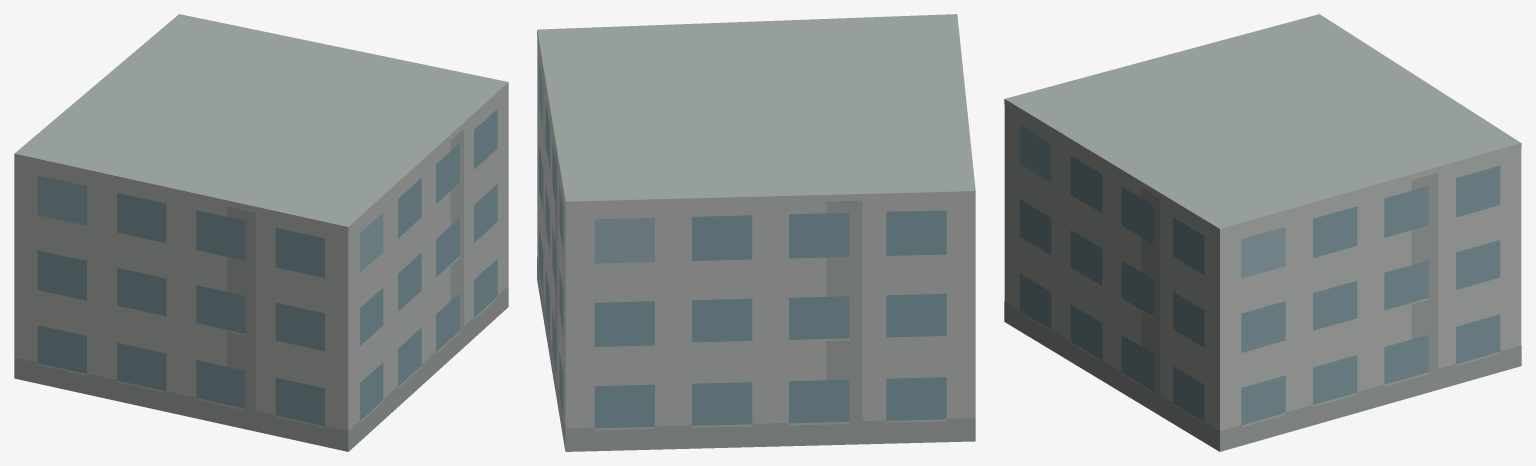
Rendered from survey-upis-32892058.glb.
The picture shows the model from 3 angles, left to right: view 1: azimuth 30°, elevation 25°; view 2: azimuth 150°, elevation 25°; view 3: azimuth 270°, elevation 25°; orthographic projection. The views are drawn at different scales.
Visible parts, largest first — view 1: survey-upis-32892058.tmp; view 2: survey-upis-32892058.tmp; view 3: survey-upis-32892058.tmp.
Part boxes in pixels (left/top/right/bottom): survey-upis-32892058.tmp: left=14, top=14, right=508, bottom=451; survey-upis-32892058.tmp: left=537, top=14, right=975, bottom=451; survey-upis-32892058.tmp: left=1004, top=14, right=1521, bottom=451.
Size of the model in its own units: 18.92 by 9.15 by 19.23.
